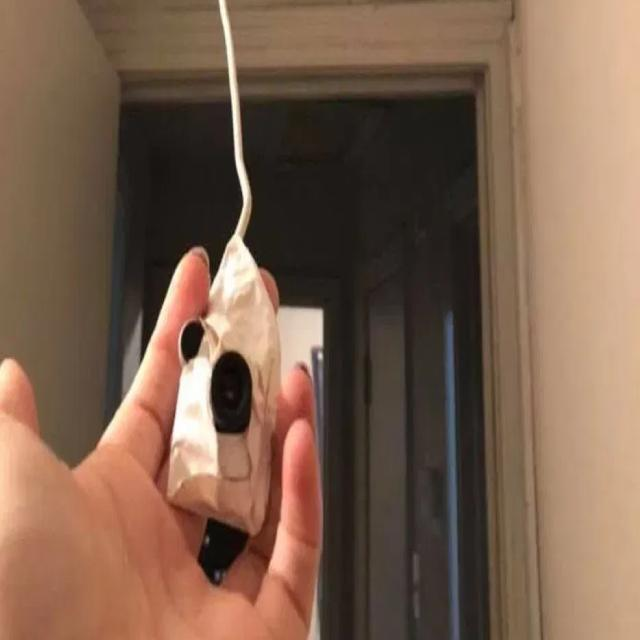hidden camera: (218, 360, 243, 417)
